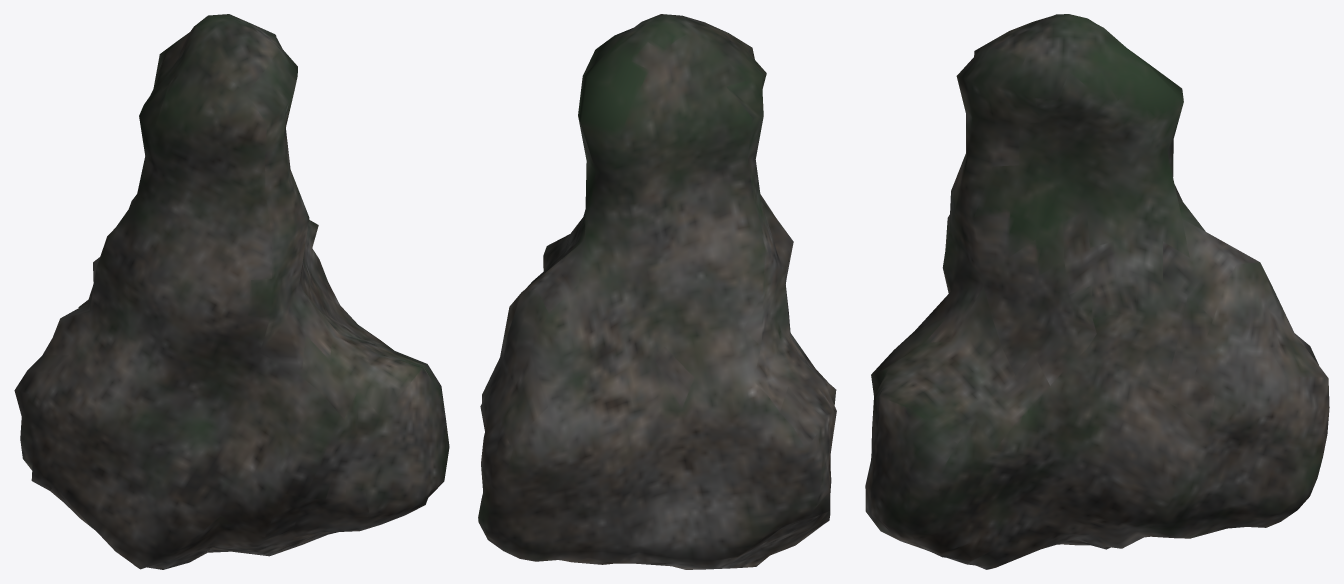
File: Cave Stone 1.fbx
3 views of the same model, side by side, from view 1: azimuth 30°, elevation 25°; view 2: azimuth 150°, elevation 25°; view 3: azimuth 270°, elevation 25° (orthographic). The views are drawn at different scales.
Parts seen in each view (by area): view 1: rock.011; view 2: rock.011; view 3: rock.011.
Part boxes in pixels (x1=…): rock.011: x1=14, y1=14, x2=449, y2=569; rock.011: x1=478, y1=14, x2=836, y2=569; rock.011: x1=865, y1=14, x2=1329, y2=569.
Size of the model in its own units: 88.01 by 132 by 103.
1 material, 1 textured.
